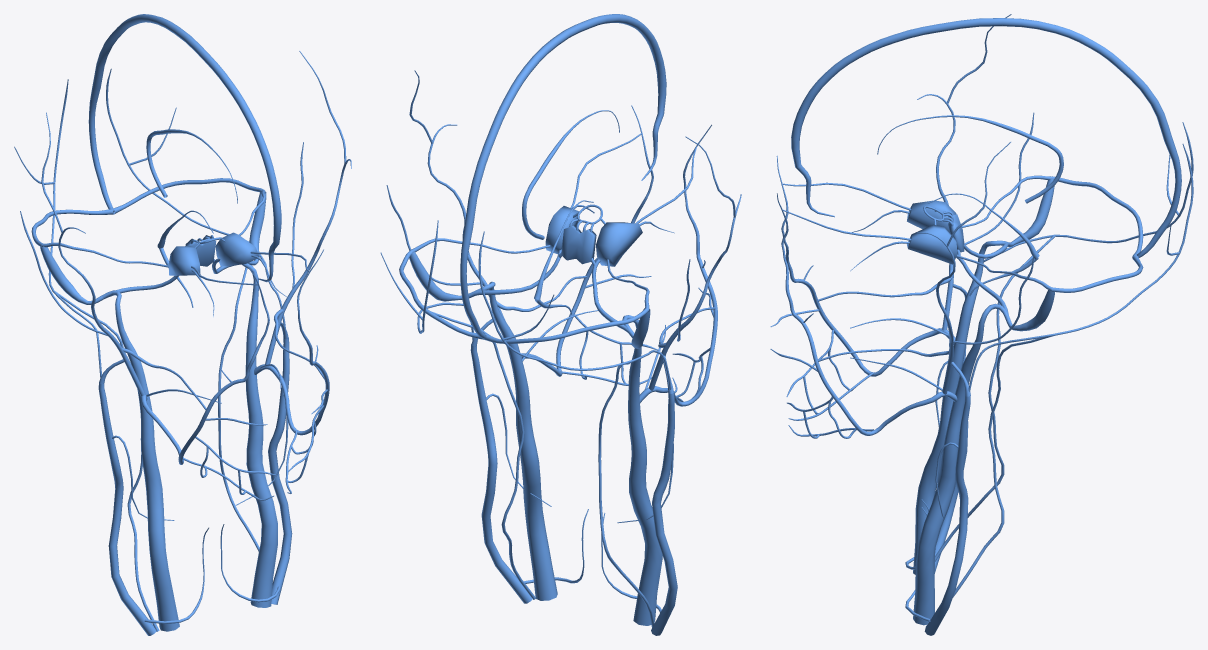
File: veins.glb
3 views of the same model, side by side, from view 1: azimuth 30°, elevation 25°; view 2: azimuth 150°, elevation 25°; view 3: azimuth 270°, elevation 25° (orthographic). The views are drawn at different scales.
Visible parts, largest first — view 1: Internal jugular vein.l.001, Internal jugular vein.r.001, Superior sagittal sinus.001, External jugular vein.r.001, External jugular vein.l.001, Cavernous sinus.l.001, Occipital vein.l.001, Vertebral vein.l.001, Occipital vein.r.001, Cavernous sinus.r.001, Vertebral vein.r.001, Superficial temporal veins.l.001 (+10 smaller); view 2: Internal jugular vein.l.001, Superior sagittal sinus.001, Internal jugular vein.r.001, External jugular vein.l.001, External jugular vein.r.001, Cavernous sinus.r.001, Basilar venous plexus.001, Vertebral vein.l.001, Occipital vein.r.001, Vertebral vein.r.001, Transverse sinus.r.001, Cavernous sinus.l.001 (+10 smaller); view 3: Superior sagittal sinus.001, Internal jugular vein.l.001, Internal jugular vein.r.001, External jugular vein.l.001, Cavernous sinus.l.001, Occipital vein.l.001, Vertebral vein.r.001, Vertebral vein.l.001, Facial vein.l.001, Inferior sagittal sinus.001, Cavernous sinus.r.001, Facial vein.r.001 (+6 smaller).
Boxes of the visible parts, box(x1,y1,x2,y2) form: Internal jugular vein.l.001: box(241, 263, 277, 607); Internal jugular vein.r.001: box(102, 290, 179, 631); Superior sagittal sinus.001: box(88, 14, 281, 282); External jugular vein.r.001: box(98, 383, 156, 635); External jugular vein.l.001: box(268, 338, 292, 604); Cavernous sinus.l.001: box(215, 232, 259, 266); Occipital vein.l.001: box(106, 68, 285, 328); Vertebral vein.l.001: box(218, 267, 259, 551); Occipital vein.r.001: box(14, 79, 101, 377); Cavernous sinus.r.001: box(168, 242, 200, 275); Vertebral vein.r.001: box(54, 290, 159, 631); Superficial temporal veins.l.001: box(291, 51, 351, 292); Internal jugular vein.l.001: box(474, 281, 557, 600); Superior sagittal sinus.001: box(460, 14, 666, 339); Internal jugular vein.r.001: box(622, 315, 662, 625); External jugular vein.l.001: box(470, 344, 532, 603); External jugular vein.r.001: box(651, 393, 677, 635); Cavernous sinus.r.001: box(596, 218, 642, 266); Basilar venous plexus.001: box(558, 219, 596, 265); Vertebral vein.l.001: box(431, 311, 535, 599); Occipital vein.r.001: box(478, 231, 671, 389); Vertebral vein.r.001: box(598, 362, 654, 627); Transverse sinus.r.001: box(484, 308, 648, 344); Cavernous sinus.l.001: box(545, 206, 579, 254); Superior sagittal sinus.001: box(791, 18, 1181, 257); Internal jugular vein.l.001: box(913, 303, 1008, 625); Internal jugular vein.r.001: box(913, 240, 1007, 574); External jugular vein.l.001: box(924, 396, 970, 635); Cavernous sinus.l.001: box(907, 218, 957, 264); Occipital vein.l.001: box(968, 144, 1193, 391); Vertebral vein.r.001: box(935, 235, 1055, 561); Vertebral vein.l.001: box(925, 336, 1053, 627); Facial vein.l.001: box(810, 342, 945, 435); Inferior sagittal sinus.001: box(877, 115, 1063, 203); Cavernous sinus.r.001: box(907, 200, 956, 231); Facial vein.r.001: box(810, 288, 943, 376).
Bounding box in the file's own units: 0.1576 × 0.2929 × 0.1918.
